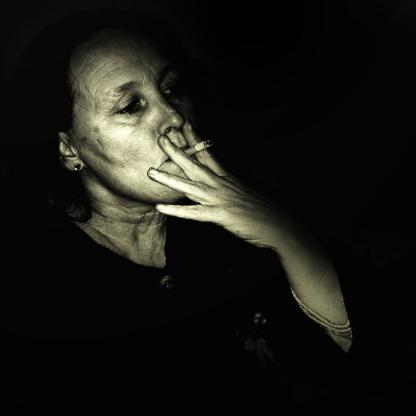smoking: (180, 139, 214, 158)
